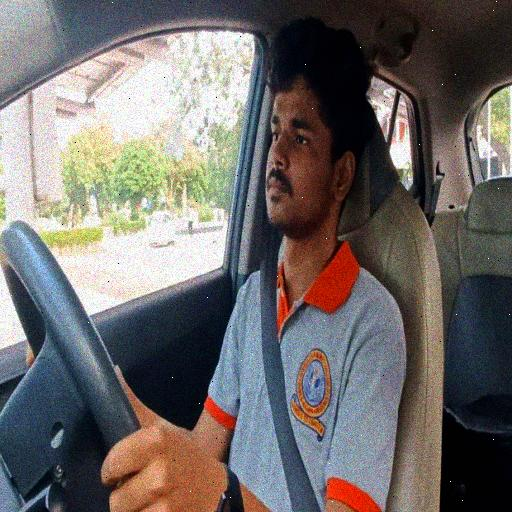sleepy: (30, 15, 408, 512)
